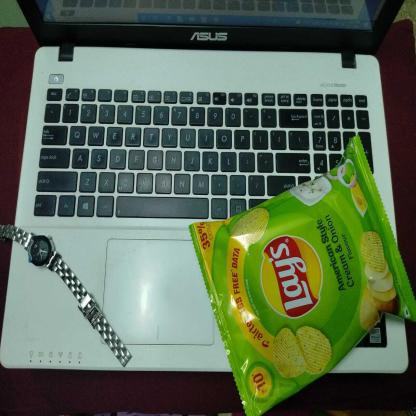cream_and_onion: (188, 133, 415, 415)
